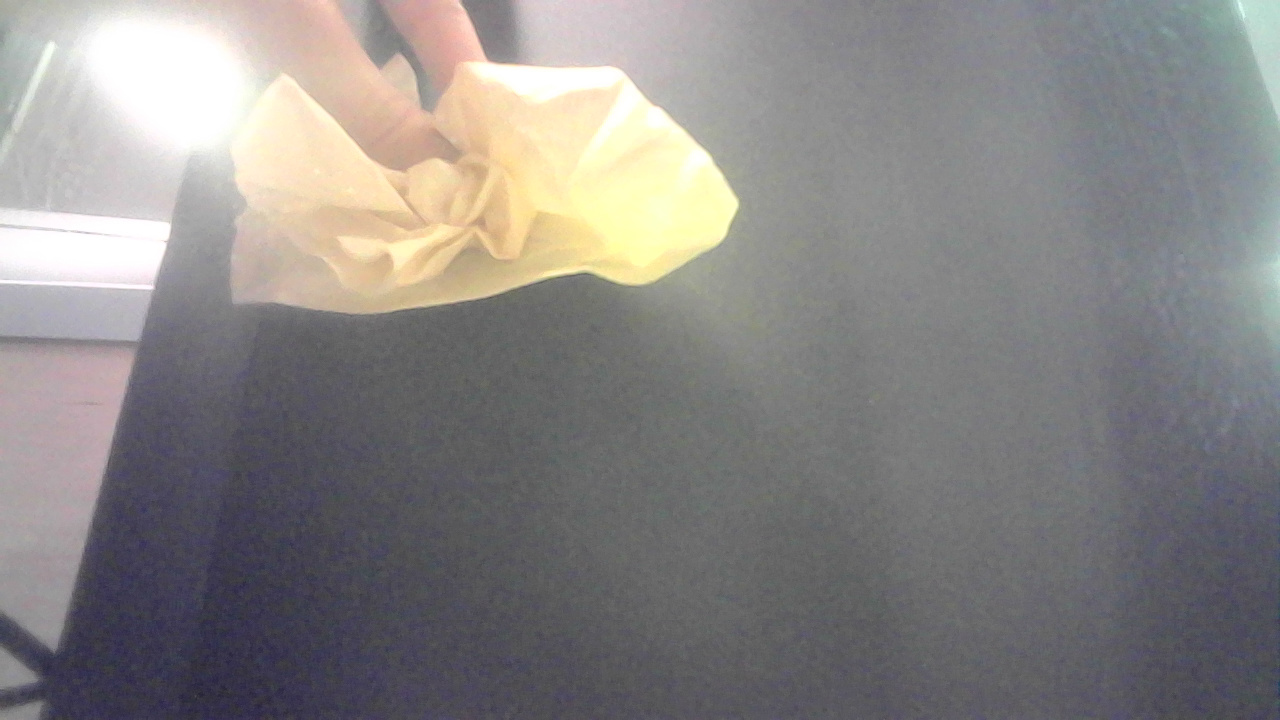Paper_Recycling: (346, 285, 968, 580)
